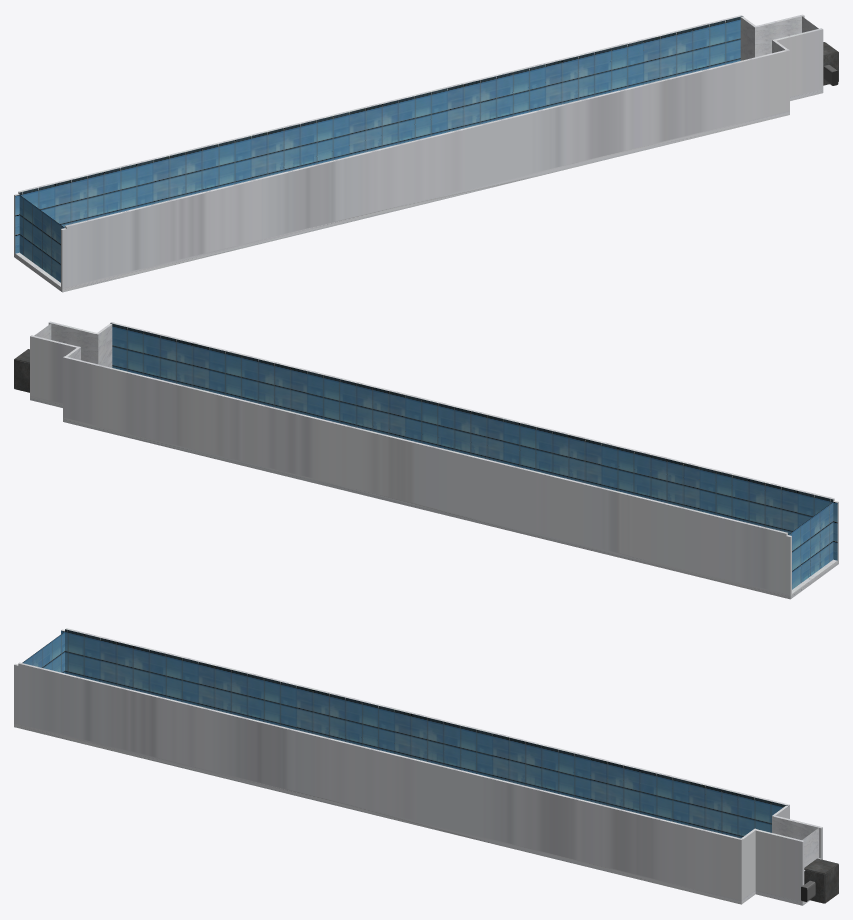
File: bosslevel.glb
3 renders of one model, top to bottom at view 1: azimuth 30°, elevation 25°; view 2: azimuth 150°, elevation 25°; view 3: azimuth 330°, elevation 25°, orthographic.
Visible parts, largest first — view 1: Cube; view 2: Cube; view 3: Cube.
Part boxes in pixels (x1,y1,x2,y2): Cube: (14,14,823,292); Cube: (30,321,838,599); Cube: (14,628,822,905).
Bounding box in the file's own units: 67.09 × 5.22 × 7.08.
Materials: 13 (9 with a texture image).
